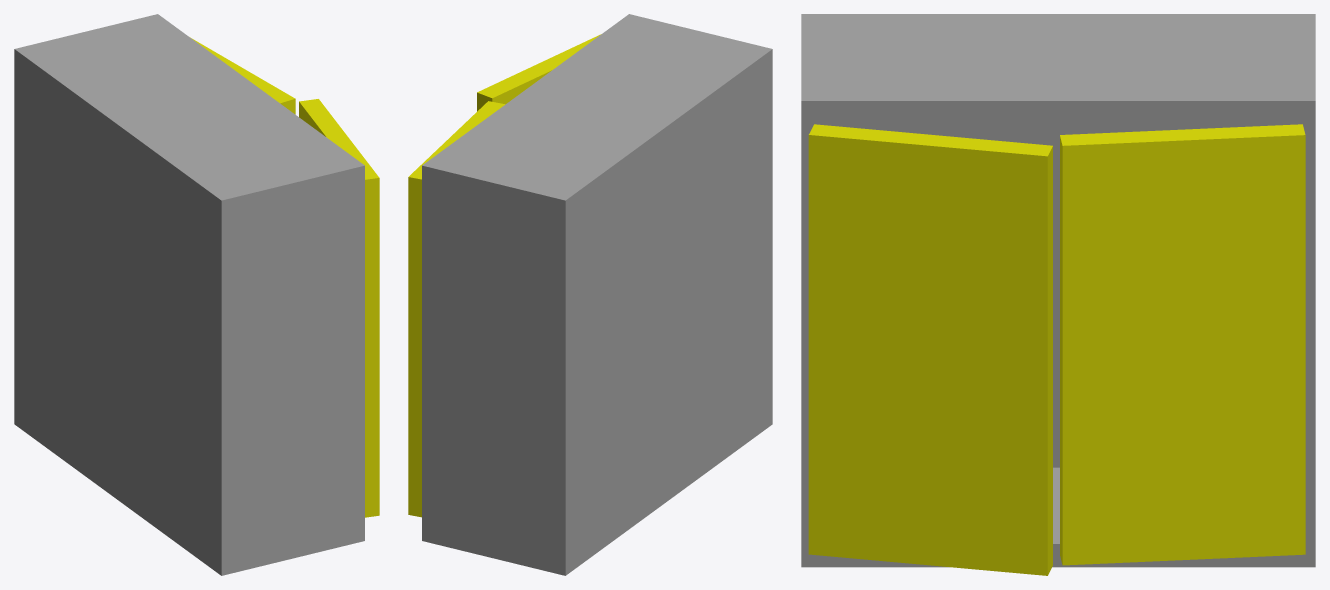
File: SM_Cabinet_Wall_Closed.fbx
3 views of the same model, side by side, from view 1: azimuth 30°, elevation 25°; view 2: azimuth 150°, elevation 25°; view 3: azimuth 270°, elevation 25° (orthographic). The views are drawn at different scales.
Visible parts, largest first — view 1: SM_Cabinet_Wall_Closed; view 2: SM_Cabinet_Wall_Closed; view 3: SM_Cabinet_Wall_Closed.
Boxes of the visible parts, x1,y1,x2,y2 form: SM_Cabinet_Wall_Closed: (14,14,379,575); SM_Cabinet_Wall_Closed: (408,14,772,575); SM_Cabinet_Wall_Closed: (801,14,1315,575).
Size of the model in its own units: 54.77 by 100 by 100.
